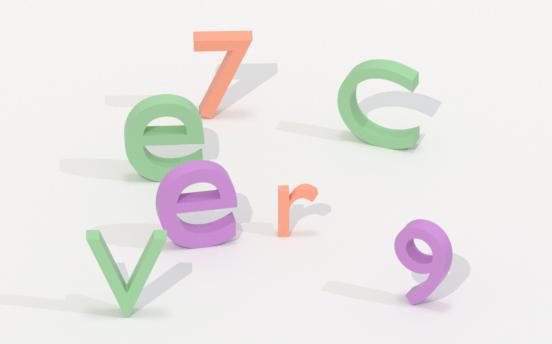7: (190, 28, 257, 122)
9: (392, 218, 457, 308)
R: (274, 182, 322, 244)
c: (332, 58, 432, 156)
e: (119, 93, 211, 183), (154, 164, 240, 248)
v: (87, 226, 168, 320)
